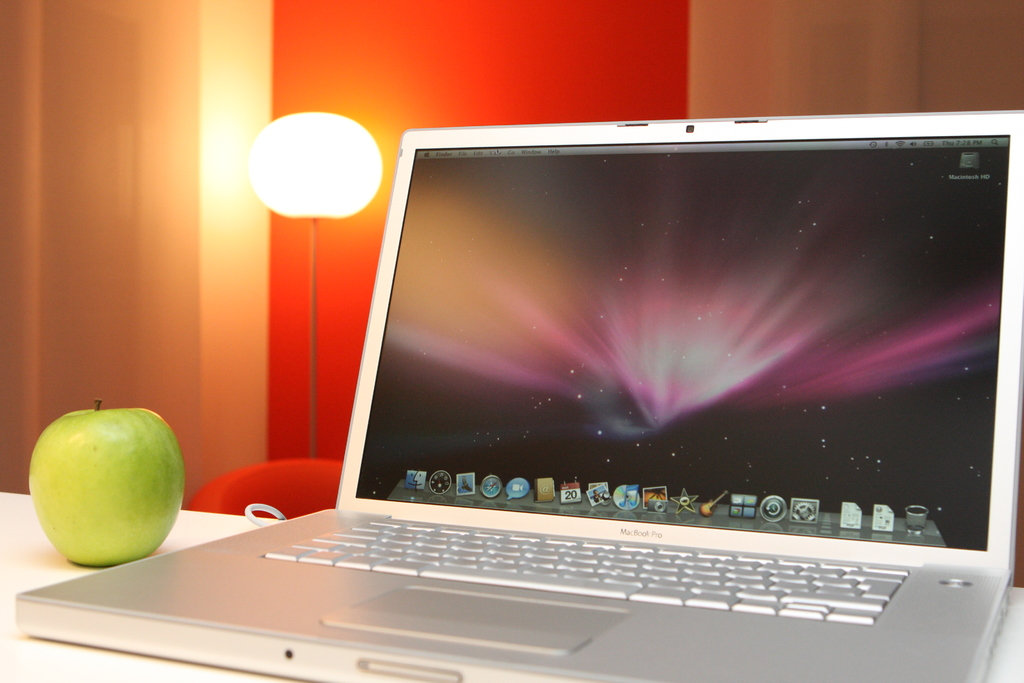Apple: (24, 400, 177, 565)
